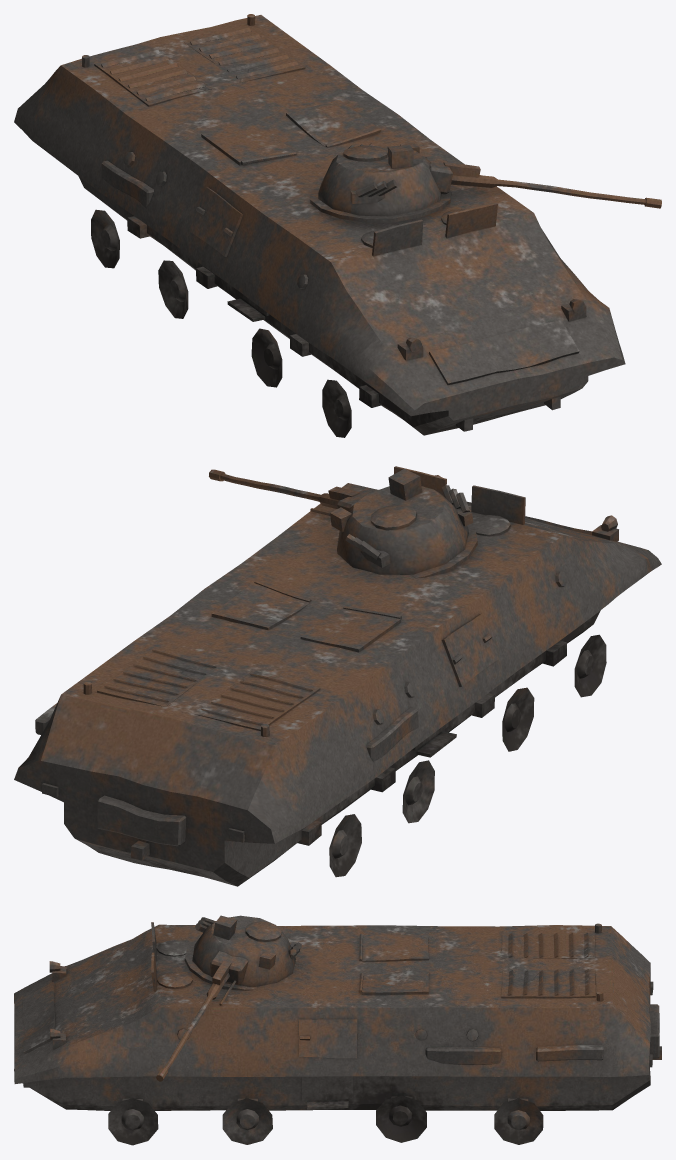
File: Wreck_APC.fbx
3 views of the same model, one above another, from view 1: azimuth 30°, elevation 25°; view 2: azimuth 150°, elevation 25°; view 3: azimuth 270°, elevation 25° (orthographic). The views are drawn at different scales.
Visible parts, largest first — view 1: Wreck_APC_Mesh; view 2: Wreck_APC_Mesh; view 3: Wreck_APC_Mesh.
Part boxes in pixels (left/top/right/bottom): Wreck_APC_Mesh: left=14, top=14, right=661, bottom=437; Wreck_APC_Mesh: left=14, top=466, right=661, bottom=886; Wreck_APC_Mesh: left=14, top=915, right=661, bottom=1145.
Bounding box in the file's own units: 4.09 × 2.39 × 7.65.
